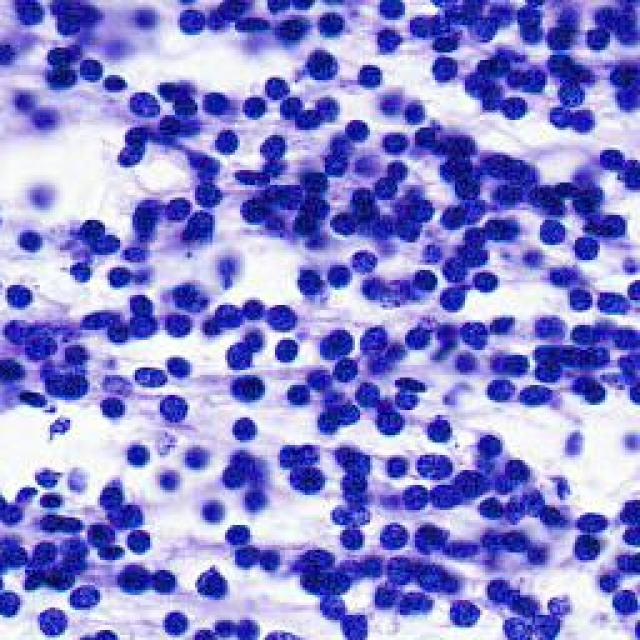cell: (0, 356, 46, 406), (413, 446, 460, 483), (227, 373, 274, 408), (284, 470, 336, 501), (24, 100, 71, 134), (171, 278, 208, 320), (188, 564, 232, 599), (302, 42, 346, 77), (25, 175, 62, 216), (319, 320, 355, 360), (293, 259, 327, 300), (33, 607, 74, 639), (470, 266, 509, 299), (125, 83, 161, 117), (336, 614, 383, 640), (240, 289, 271, 328), (475, 373, 518, 401), (152, 559, 178, 604), (77, 306, 122, 332), (96, 396, 136, 425), (538, 215, 572, 249), (0, 312, 34, 346), (398, 94, 432, 128), (162, 390, 193, 427), (417, 522, 450, 556), (119, 560, 146, 601), (230, 417, 264, 449), (107, 512, 152, 536), (23, 465, 67, 489), (236, 90, 268, 123), (450, 597, 485, 627), (233, 198, 270, 226), (219, 342, 256, 370), (11, 0, 52, 25), (429, 58, 462, 88), (358, 65, 393, 93), (498, 89, 529, 120), (11, 229, 43, 259), (266, 338, 306, 362), (284, 376, 312, 410), (362, 328, 392, 359), (178, 11, 209, 41), (124, 442, 156, 471), (380, 25, 409, 57), (36, 69, 78, 91), (161, 356, 201, 379), (99, 258, 130, 287), (346, 112, 375, 143), (212, 130, 244, 158), (4, 280, 36, 308), (76, 213, 109, 240), (117, 143, 154, 167), (76, 52, 102, 86), (160, 314, 194, 340), (346, 245, 384, 268), (477, 430, 508, 457), (164, 191, 190, 223), (124, 295, 160, 318), (373, 461, 409, 484), (72, 583, 105, 608), (272, 299, 296, 333), (99, 480, 128, 508), (130, 368, 170, 388), (259, 75, 293, 98), (380, 523, 410, 549), (131, 317, 162, 342), (96, 376, 136, 395), (9, 83, 38, 109), (427, 414, 452, 444), (235, 542, 259, 573), (221, 524, 260, 543), (64, 260, 92, 286), (161, 460, 183, 492), (202, 91, 229, 117), (165, 607, 187, 638), (479, 498, 506, 523), (128, 532, 156, 556), (412, 270, 437, 296), (3, 355, 26, 383), (375, 412, 404, 434), (38, 46, 83, 60), (198, 498, 222, 524), (270, 444, 296, 468), (222, 462, 246, 488), (106, 322, 133, 344), (69, 340, 91, 366), (0, 38, 15, 73)
